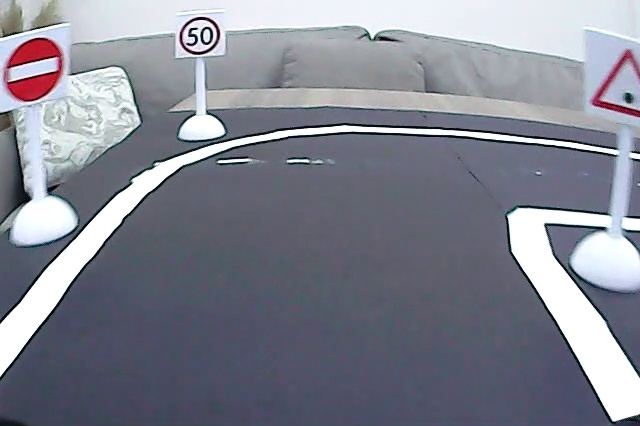do not enter: (1, 33, 67, 105)
green light: (586, 41, 640, 120)
speed limit 50: (179, 14, 223, 55)
